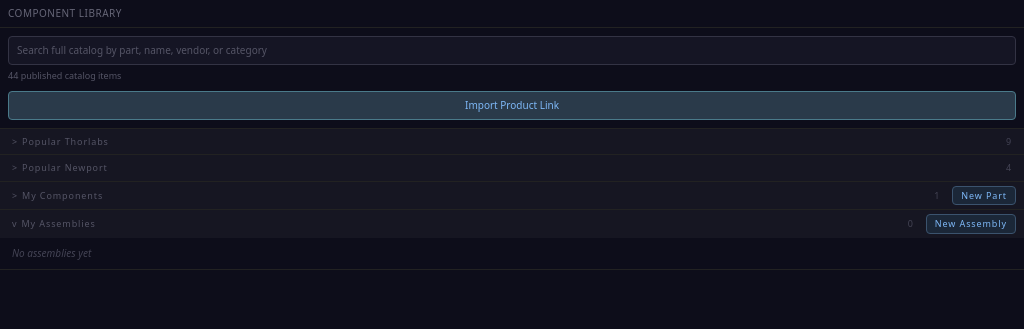
Test: ComponentLibrary › shows imported vendor parts inside My Components
This screenshot has width=1024, height=329.
Click the button "> My Components 1" at [63, 195], box [8, 186, 944, 204]
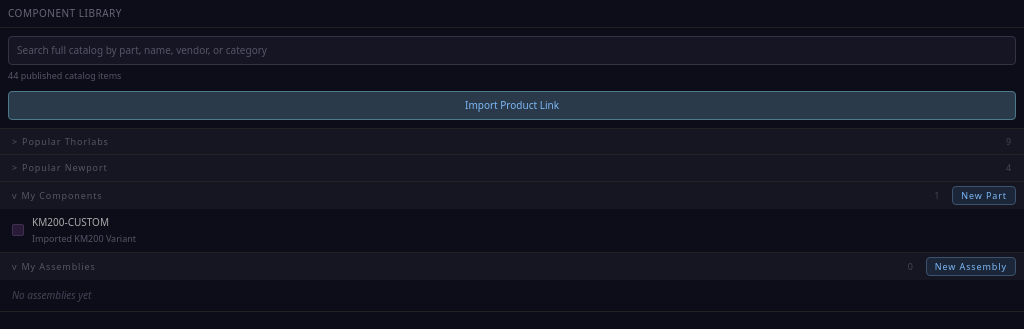
Expected: the text "KM200-CUSTOM" is shown, [32, 215, 109, 230]
